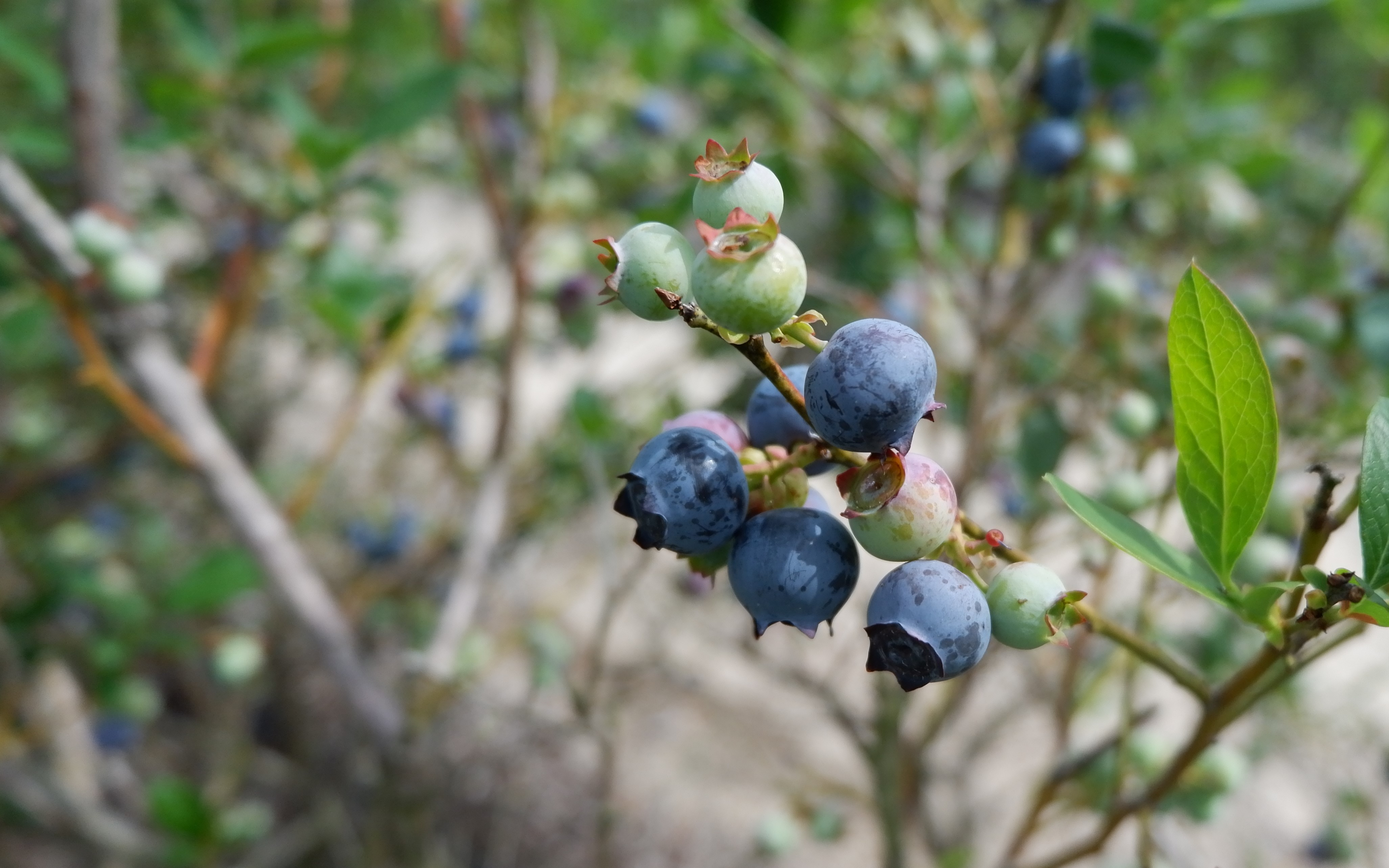Immature: (693, 209, 802, 336), (836, 447, 954, 561), (602, 225, 691, 317), (989, 563, 1082, 646), (694, 141, 780, 226), (663, 412, 749, 456)
Mature: (809, 321, 935, 451), (867, 560, 989, 689), (730, 512, 858, 632), (619, 430, 744, 552), (748, 364, 839, 476)
